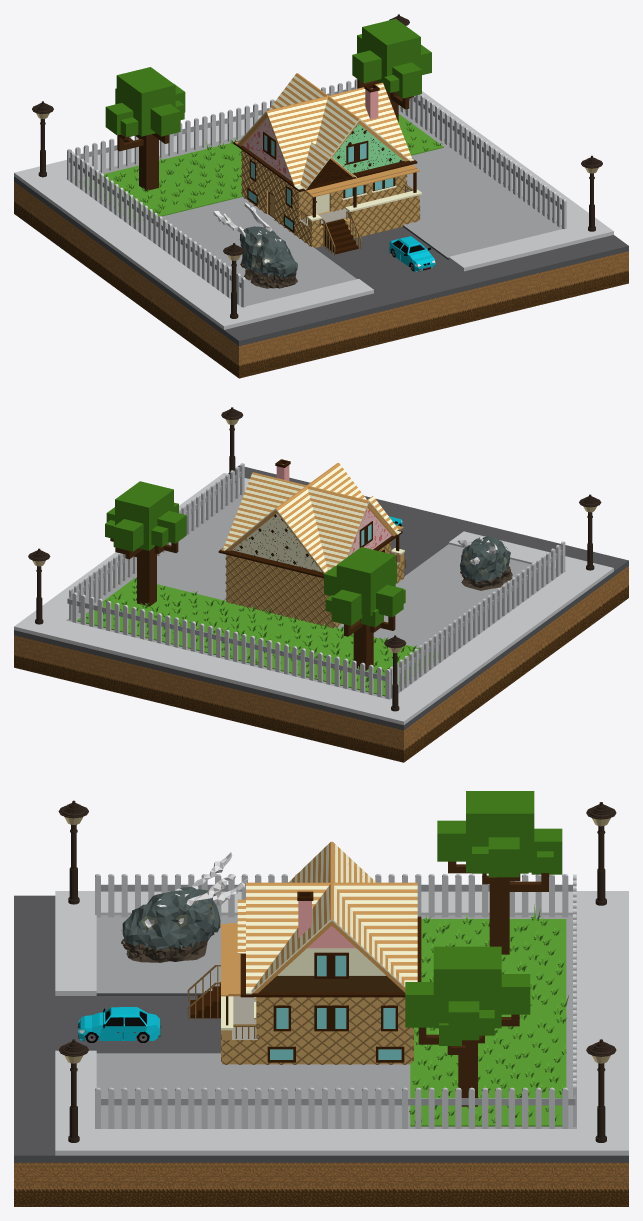
3 renders of one model, top to bottom at view 1: azimuth 30°, elevation 25°; view 2: azimuth 150°, elevation 25°; view 3: azimuth 270°, elevation 25°, orthographic. The views are drawn at different scales.
Parts seen in each view (by area): view 1: Cube.004, Cube.1102, OBJRANDOM_METEORITE, VEHICLES_CAR; view 2: Cube.004, Cube.1102, OBJRANDOM_METEORITE; view 3: Cube.004, Cube.1102, OBJRANDOM_METEORITE, VEHICLES_CAR.
Boxes of the visible parts, bbox=[...] form: Cube.004: bbox=[14, 14, 628, 378]; Cube.1102: bbox=[233, 73, 422, 255]; OBJRANDOM_METEORITE: bbox=[213, 203, 297, 288]; VEHICLES_CAR: bbox=[389, 236, 435, 271]; Cube.004: bbox=[14, 407, 628, 762]; Cube.1102: bbox=[218, 459, 406, 628]; OBJRANDOM_METEORITE: bbox=[457, 536, 512, 590]; Cube.004: bbox=[14, 791, 628, 1206]; Cube.1102: bbox=[187, 841, 421, 1064]; OBJRANDOM_METEORITE: bbox=[121, 852, 248, 962]; VEHICLES_CAR: bbox=[77, 1007, 161, 1042].
Bounding box in the file's own units: 4000 × 1609 × 4000.
29 materials, 4 textured.
